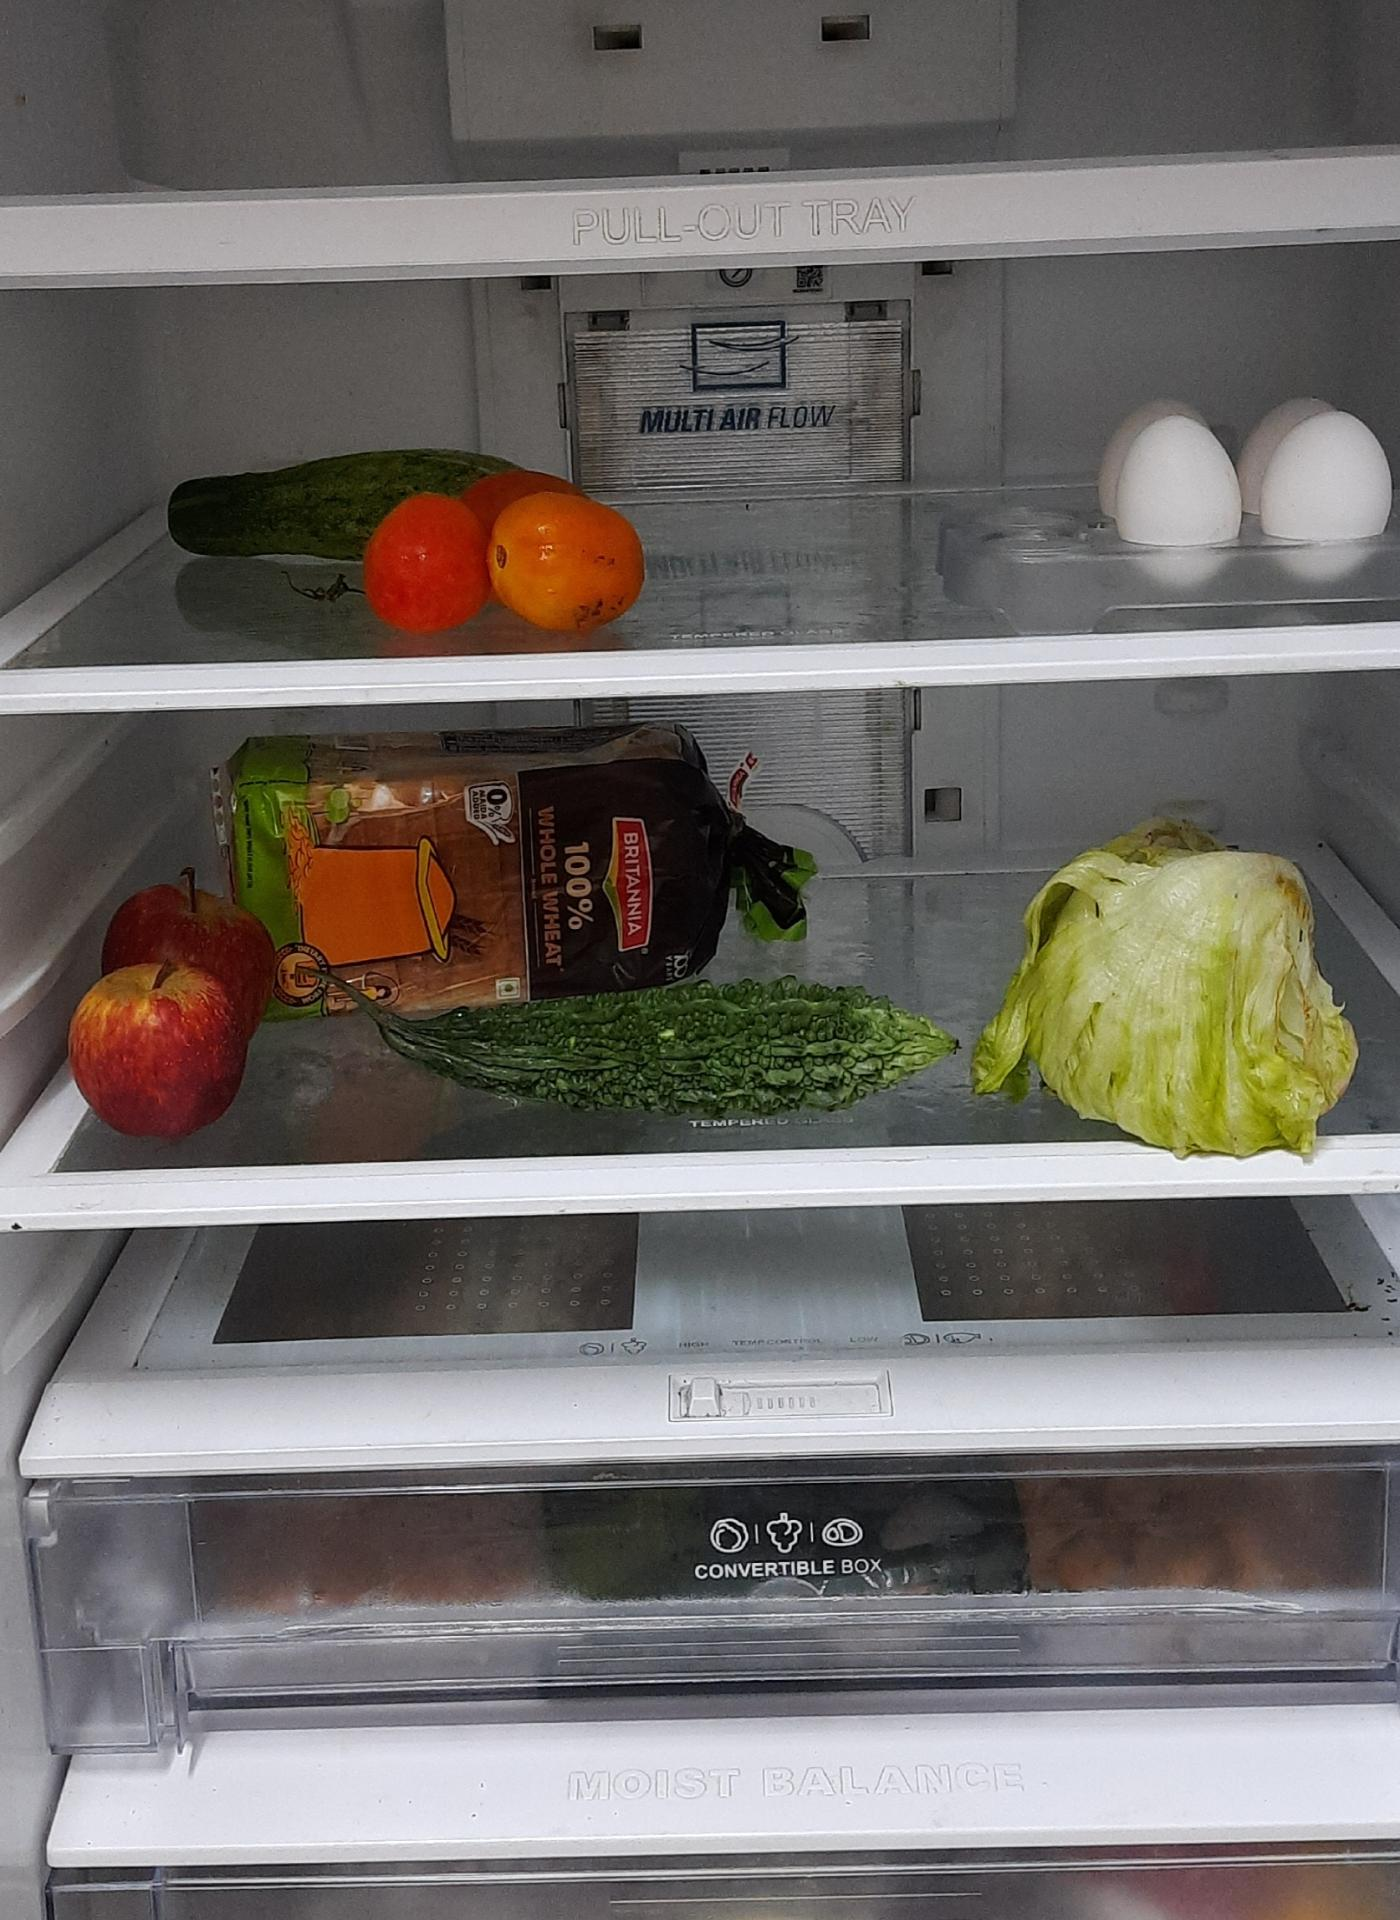apple: (69, 869, 271, 1133)
bitter gourd: (379, 993, 956, 1112)
bread: (221, 730, 807, 1008)
cucumber: (167, 441, 561, 555)
egg: (1099, 394, 1396, 577)
lettuce: (983, 812, 1372, 1148)
tomato: (365, 479, 649, 640)
